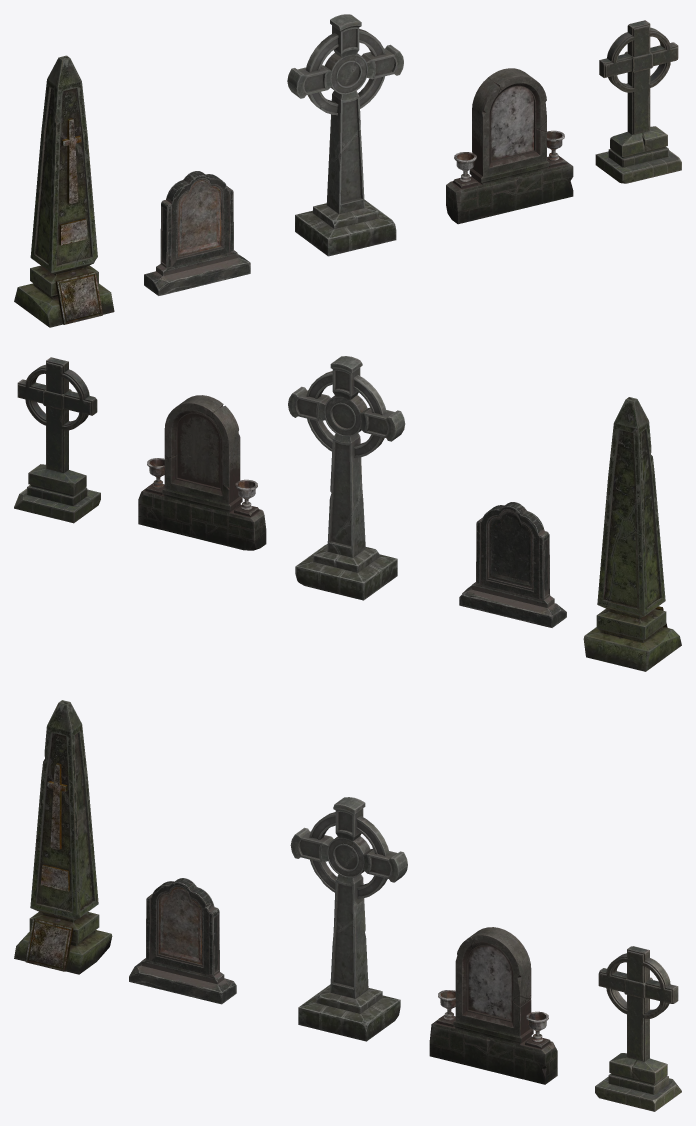
File: gravestones.glb
The picture shows the model from 3 angles, top to bottom: view 1: azimuth 30°, elevation 25°; view 2: azimuth 150°, elevation 25°; view 3: azimuth 330°, elevation 25°; orthographic projection.
Visible parts, largest first — view 1: grave_stone_05_Low.001, grave_stone_03_Low.001, grave_stone_02_Low.001, grave_stone_04_Low.001, grave_stone_01_Lowpoly.001; view 2: grave_stone_05_Low.001, grave_stone_03_Low.001, grave_stone_02_Low.001, grave_stone_04_Low.001, grave_stone_01_Lowpoly.001; view 3: grave_stone_05_Low.001, grave_stone_03_Low.001, grave_stone_02_Low.001, grave_stone_04_Low.001, grave_stone_01_Lowpoly.001.
Part boxes in pixels (<box>): grave_stone_05_Low.001: <box>14,55,114,327</box>; grave_stone_03_Low.001: <box>287,14,403,256</box>; grave_stone_02_Low.001: <box>446,68,573,224</box>; grave_stone_04_Low.001: <box>144,171,250,295</box>; grave_stone_01_Lowpoly.001: <box>595,20,681,183</box>; grave_stone_05_Low.001: <box>583,397,681,671</box>; grave_stone_03_Low.001: <box>288,356,405,600</box>; grave_stone_02_Low.001: <box>138,395,266,550</box>; grave_stone_04_Low.001: <box>459,502,566,627</box>; grave_stone_01_Lowpoly.001: <box>14,357,100,523</box>; grave_stone_05_Low.001: <box>14,700,112,974</box>; grave_stone_03_Low.001: <box>290,797,407,1041</box>; grave_stone_02_Low.001: <box>429,927,557,1084</box>; grave_stone_04_Low.001: <box>129,878,236,1004</box>; grave_stone_01_Lowpoly.001: <box>595,946,681,1111</box>.
Bounding box in the file's own units: 5.9 × 2.19 × 0.5986.
Materials: 5 (5 with a texture image).
